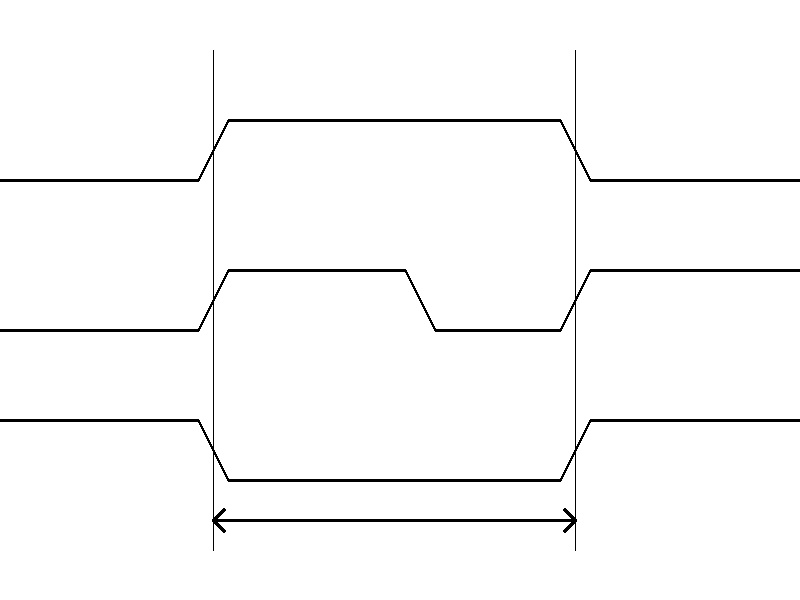double_arrow: (213, 505, 575, 535)
